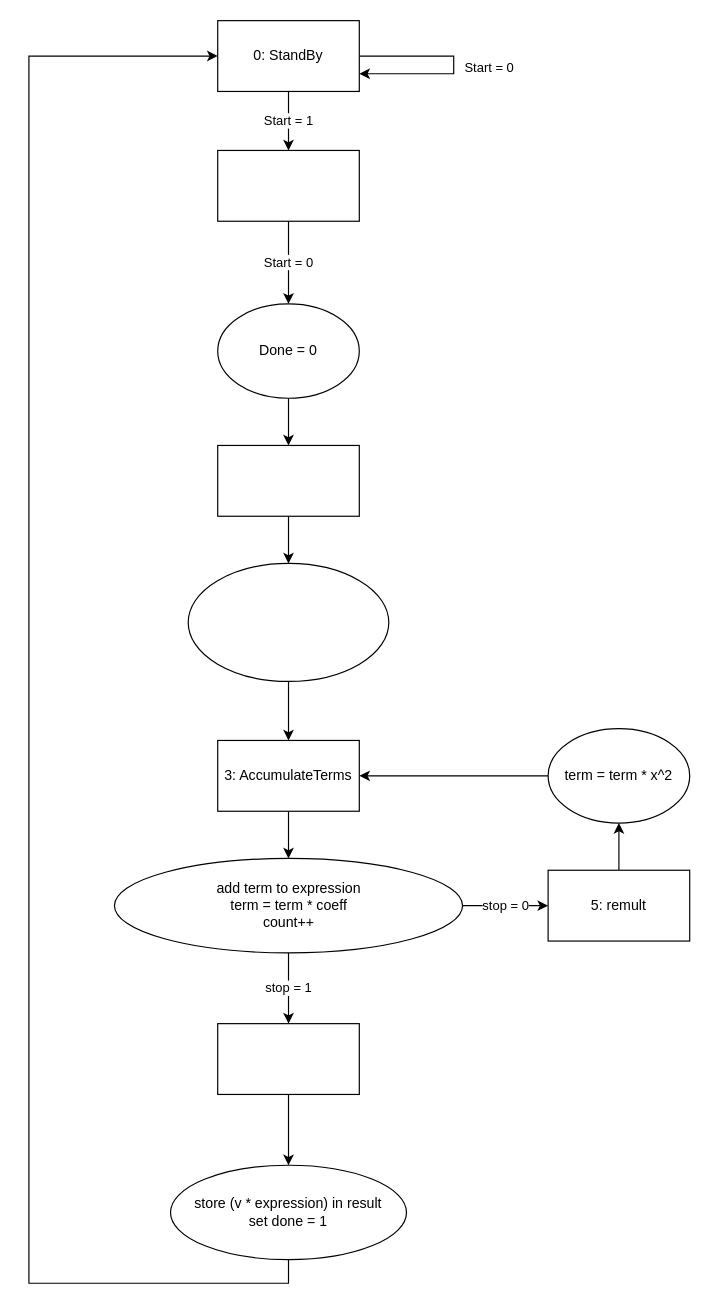
This 710x1313 diagram has some shape labels left out. The shapes that lost their labels are listed below. From the top down, each one's centre as x and y in pixels, then its label:
(x=288, y=185): 1: Alert
(x=288, y=480): 2: StartCalculation
(x=288, y=621): calculate and store x^2 store 0 in expression and 1 in term set count = 0
(x=288, y=1058): 4: calcDistance
